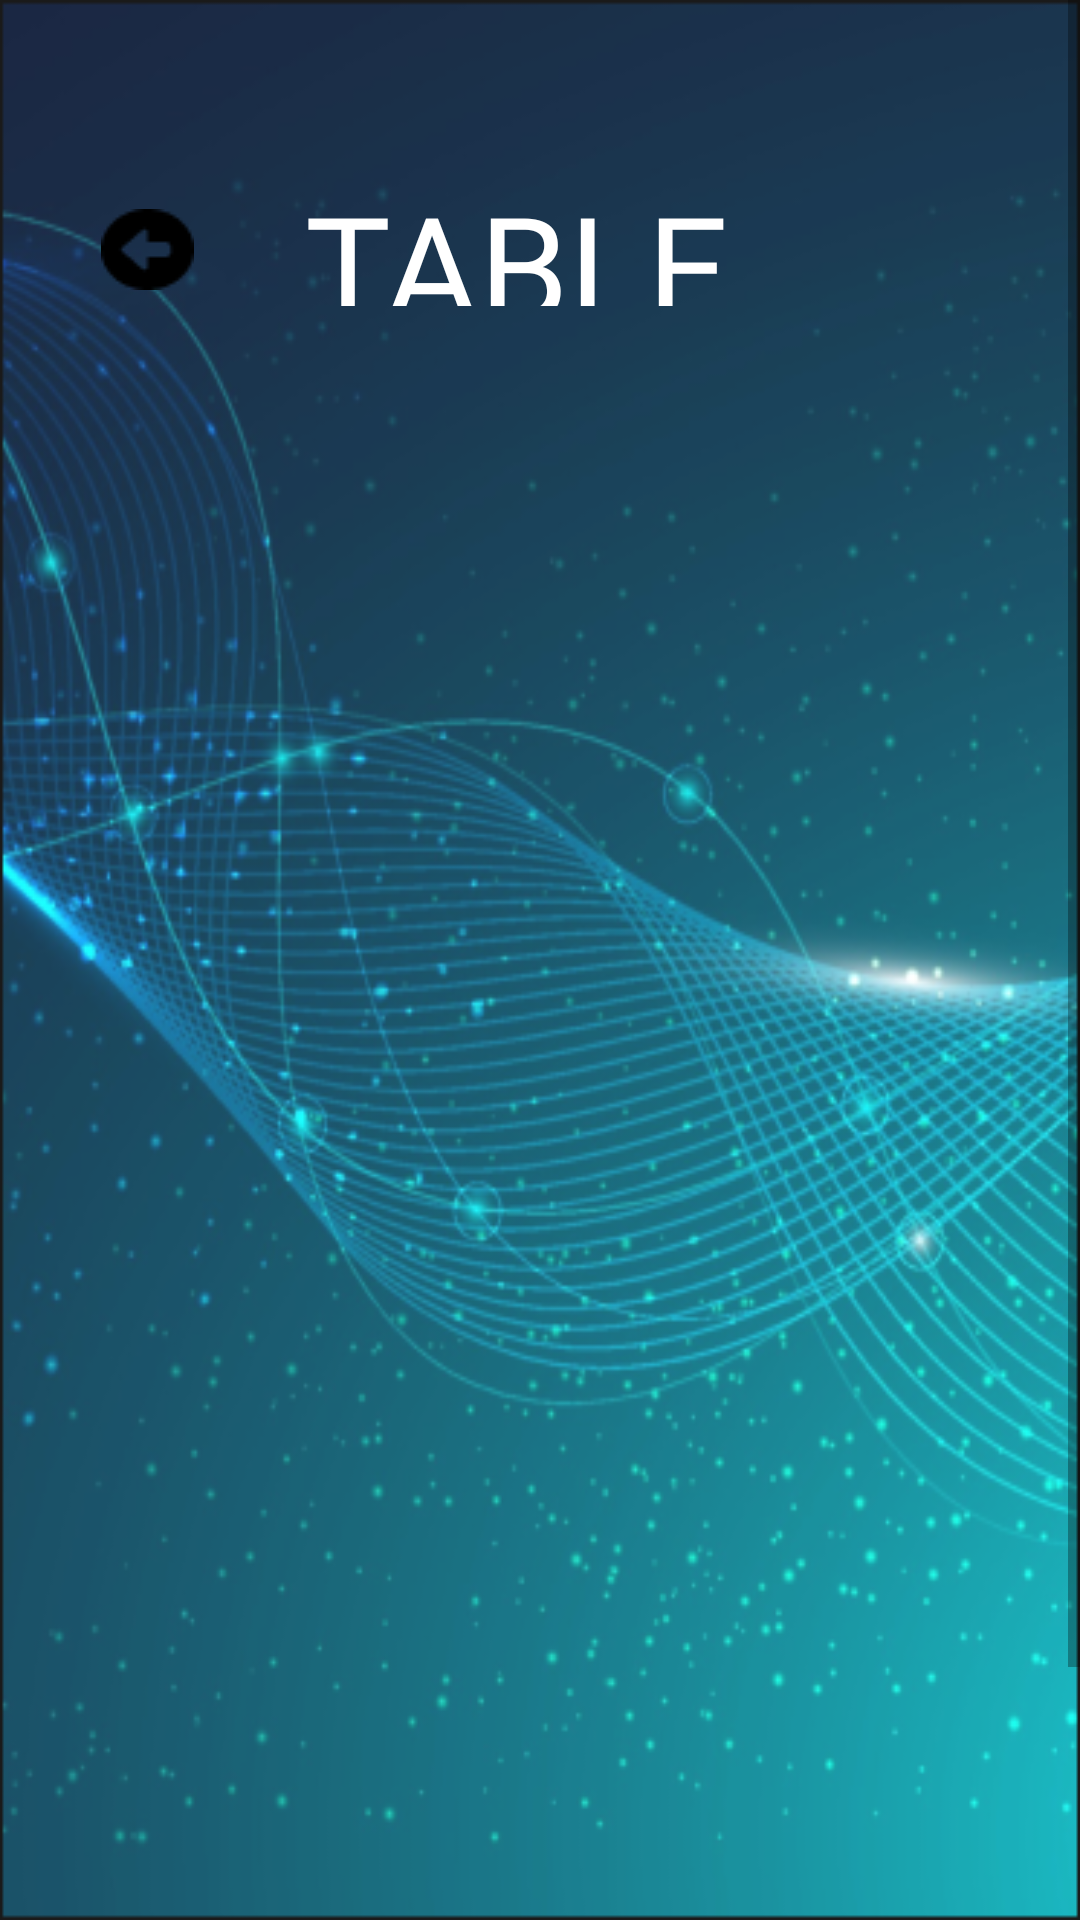

Screen size 1080px×1920px. Icon name, then its center in pixels as point (x, y):
back usuario: point (143, 257)
